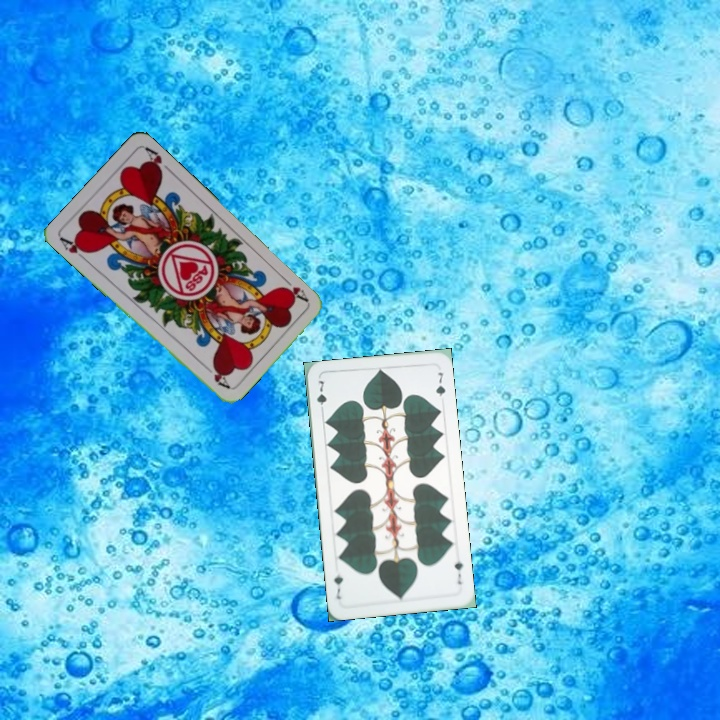G7: (313, 376, 329, 416), (450, 557, 465, 587)
HA: (56, 233, 92, 264), (277, 272, 311, 304)
